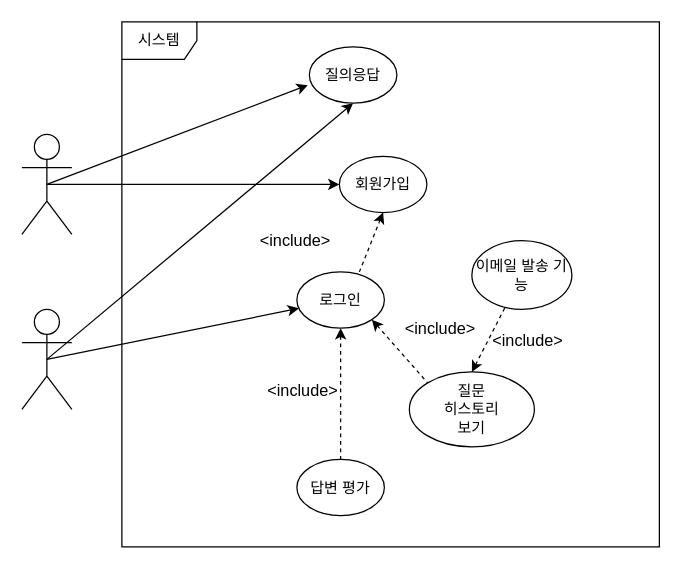
Image size: 681x569. Some labels were removed from this diagram. Here are the shapes that lost their labels. From the top down, the box of each, then its label:
(21, 133, 72, 234): 비회원
(21, 308, 72, 409): 회원
